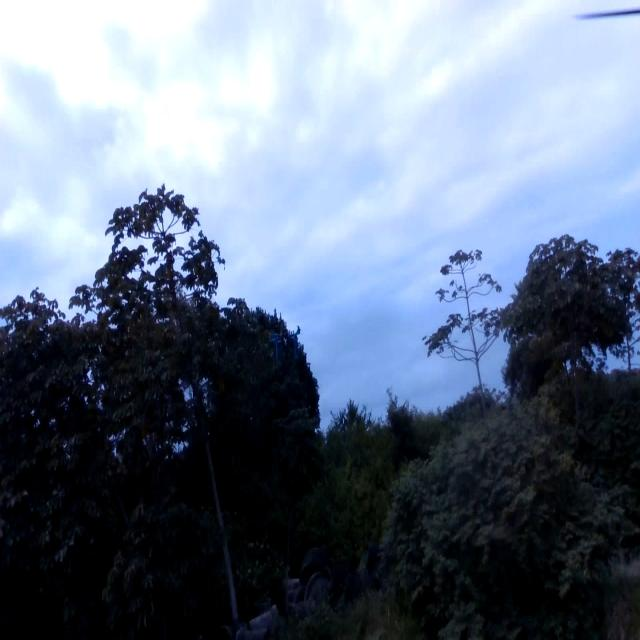-uav-: (263, 313, 305, 379)
